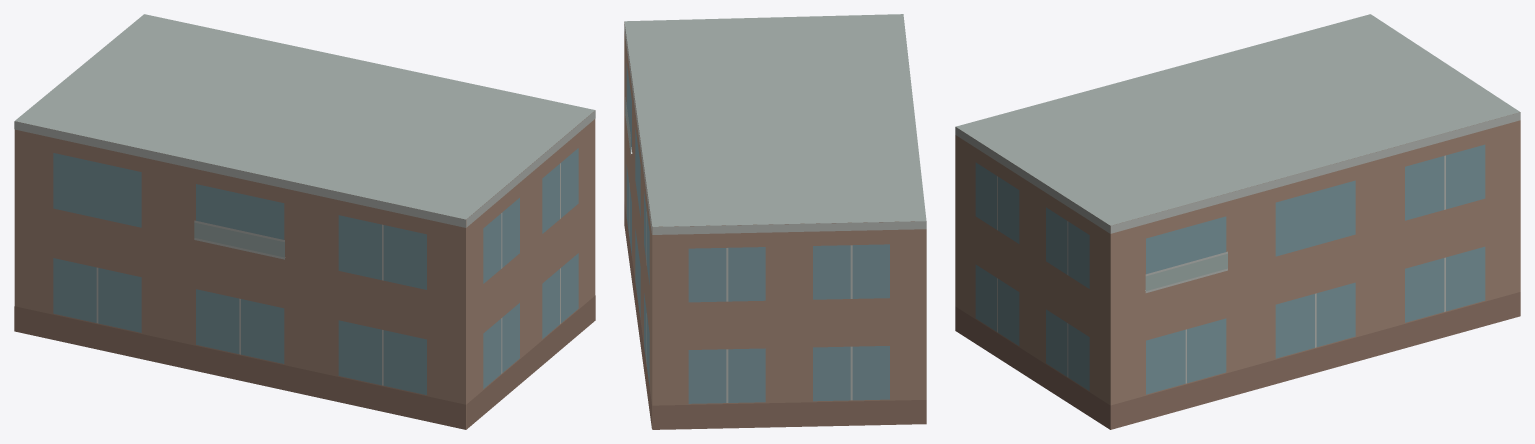
The model's file is survey-upis-32619285.glb.
3 renders of one model, left to right at view 1: azimuth 30°, elevation 25°; view 2: azimuth 150°, elevation 25°; view 3: azimuth 270°, elevation 25°, orthographic. The views are drawn at different scales.
Visible parts, largest first — view 1: survey-upis-32619285.tmp; view 2: survey-upis-32619285.tmp; view 3: survey-upis-32619285.tmp.
Part boxes in pixels (<box>): survey-upis-32619285.tmp: <box>14,14,595,429</box>; survey-upis-32619285.tmp: <box>624,14,926,429</box>; survey-upis-32619285.tmp: <box>955,14,1520,429</box>.
Bounding box in the file's own units: 13.58 × 6.1 × 15.32.
